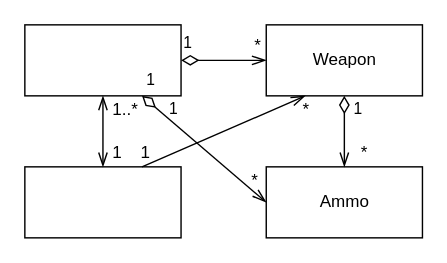
The diagram is 447 pixels wide and 263 high, and some of its shapes have lost their labels. Each missing label, with the centre of its shape:
Level: the point at 102,201
Player: the point at 102,59
